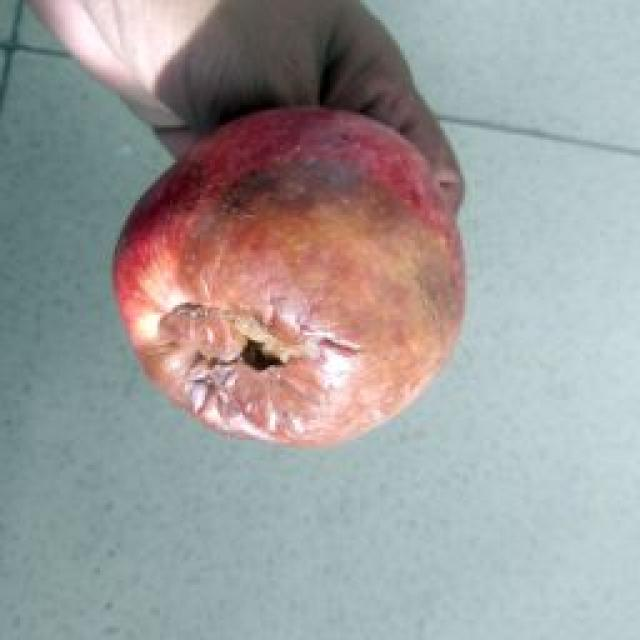Bad_Apple: (115, 111, 464, 444)
